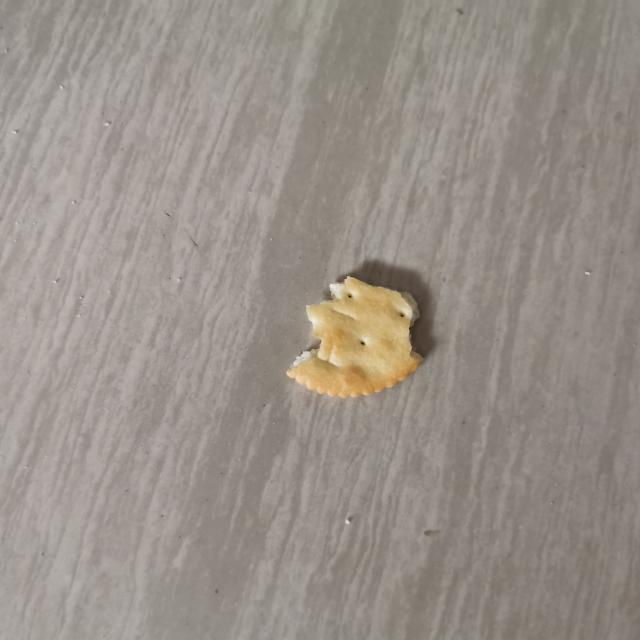Broken: (285, 274, 423, 398)
